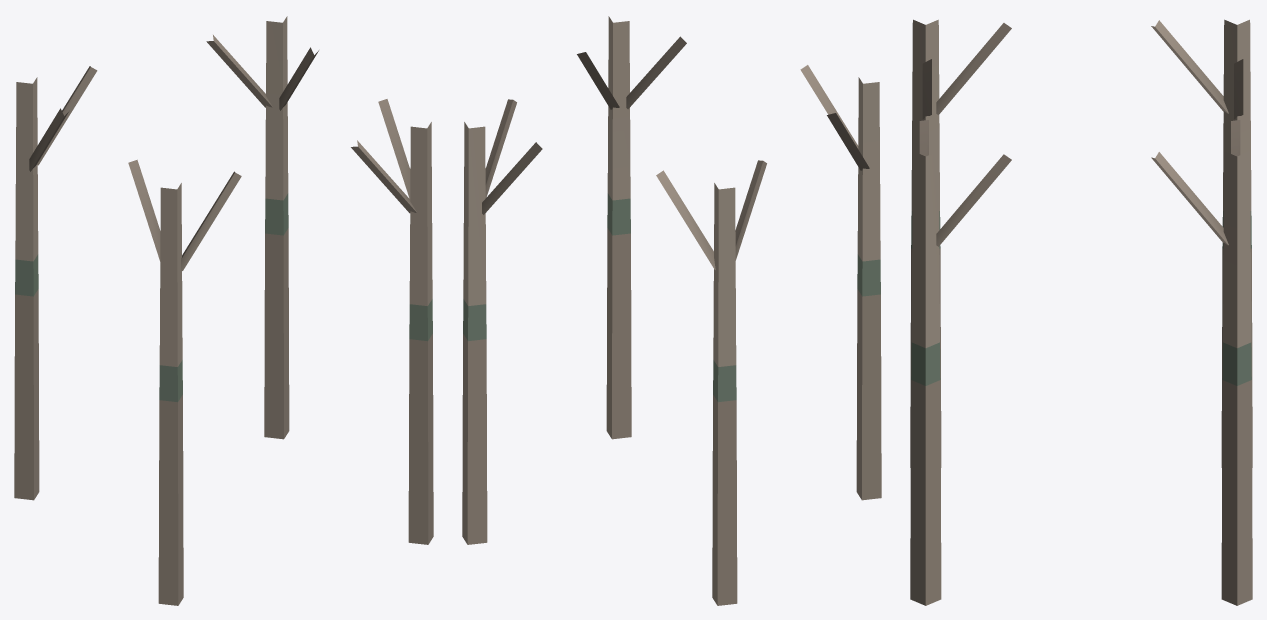
Rendered from piles.lod1.glb.
3 renders of one model, left to right at view 1: azimuth 30°, elevation 25°; view 2: azimuth 150°, elevation 25°; view 3: azimuth 270°, elevation 25°, orthographic. The views are drawn at different scales.
Size of the model in its own units: 3.96 by 5.72 by 3.96.
